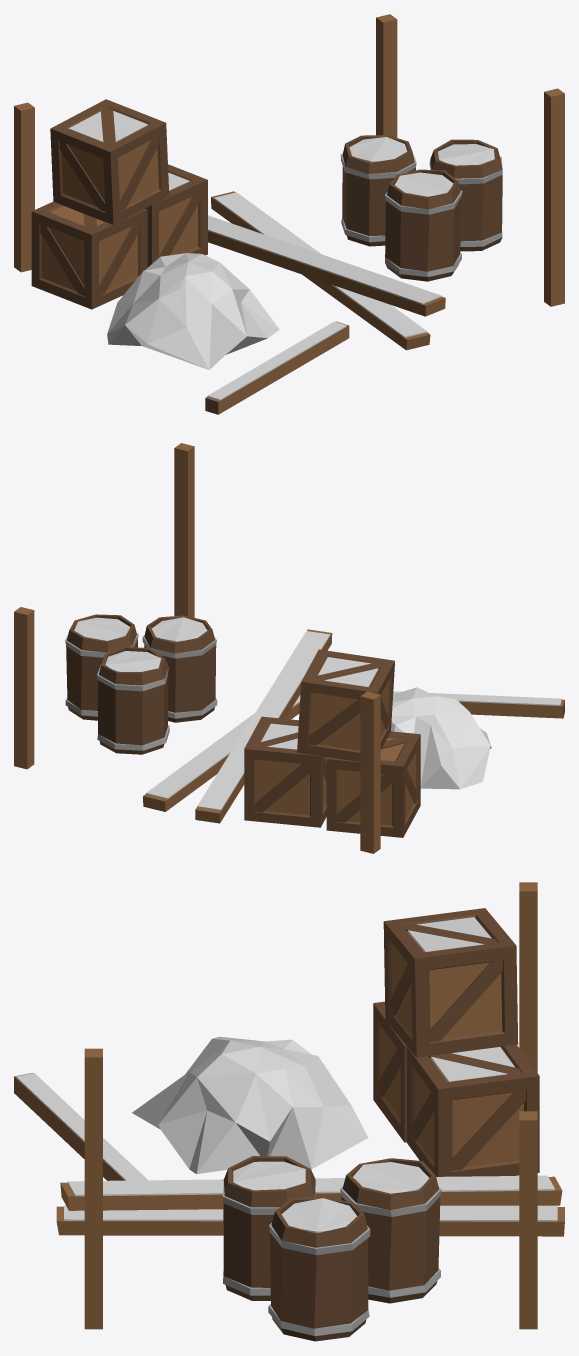
Rendered from Warehouse_build_snow_mat.fbx.
3 views of the same model, one above another, from view 1: azimuth 30°, elevation 25°; view 2: azimuth 150°, elevation 25°; view 3: azimuth 270°, elevation 25° (orthographic). The views are drawn at different scales.
Parts seen in each view (by area): view 1: Warehouse_build_snow_mat; view 2: Warehouse_build_snow_mat; view 3: Warehouse_build_snow_mat.
Boxes of the visible parts, x1,y1,x2,y2 form: Warehouse_build_snow_mat: (14,14,564,414); Warehouse_build_snow_mat: (14,443,564,853); Warehouse_build_snow_mat: (14,882,564,1341).
Bounding box in the file's own units: 3.61 × 1.77 × 3.23.
